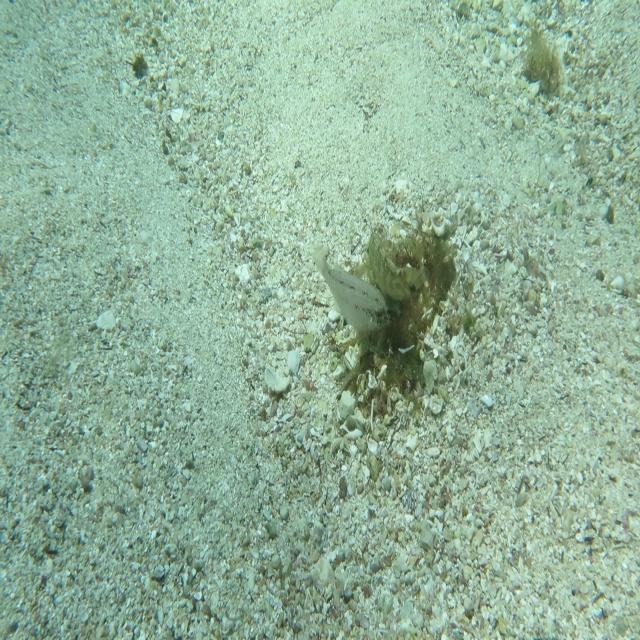BEND_OPP: (364, 218, 430, 304)
female: (305, 239, 396, 334)
nest: (334, 215, 479, 422)
